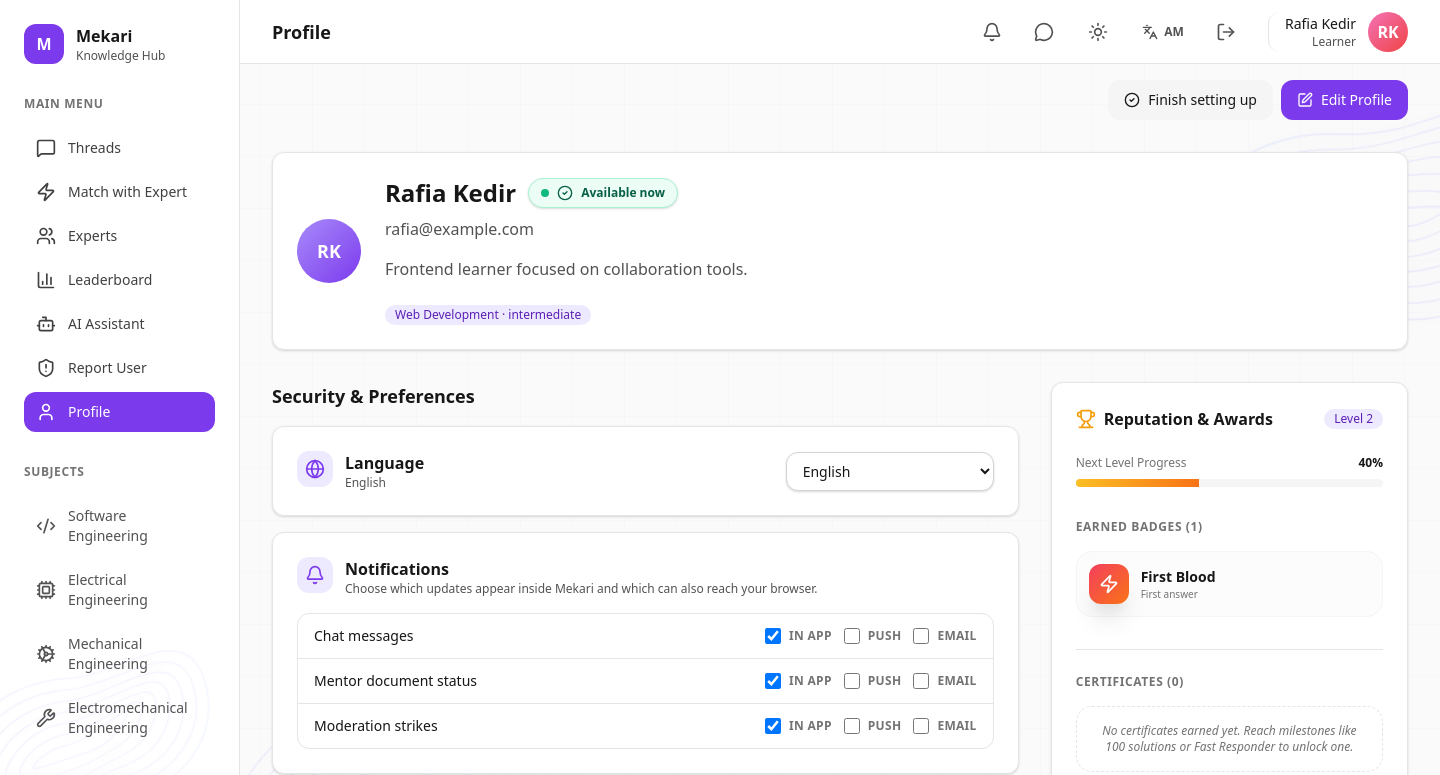
Profile management › edits basic profile details and availability
Expected: the link "Rafia Kedir Learner RK" is shown, [1268,12,1408,52]
Click the button "Edit Profile". click: point(1345, 100)
box: [1281,80,1408,120]
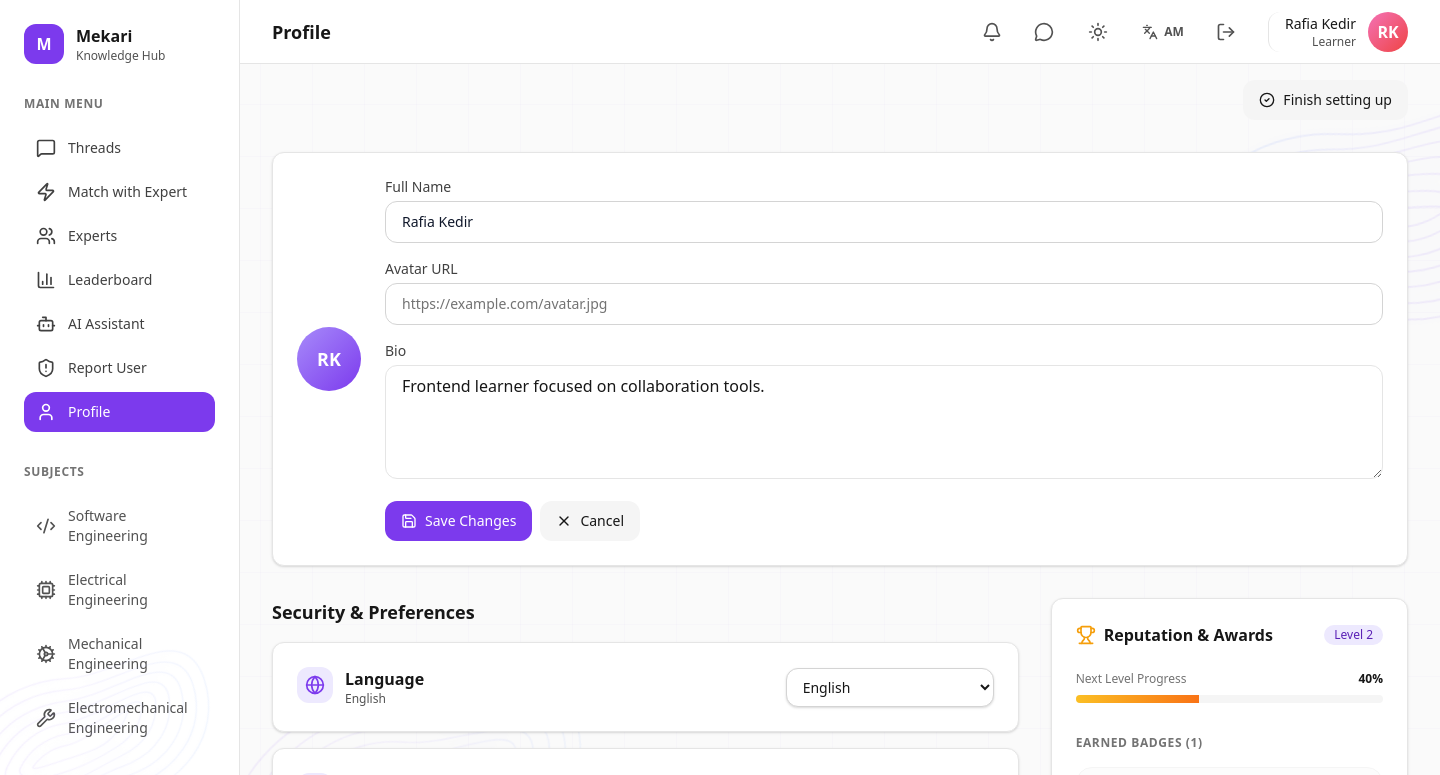
Replace the text in the 1st field with "Rafia Updated". click: point(884, 222)
box: [385,201,1383,243]
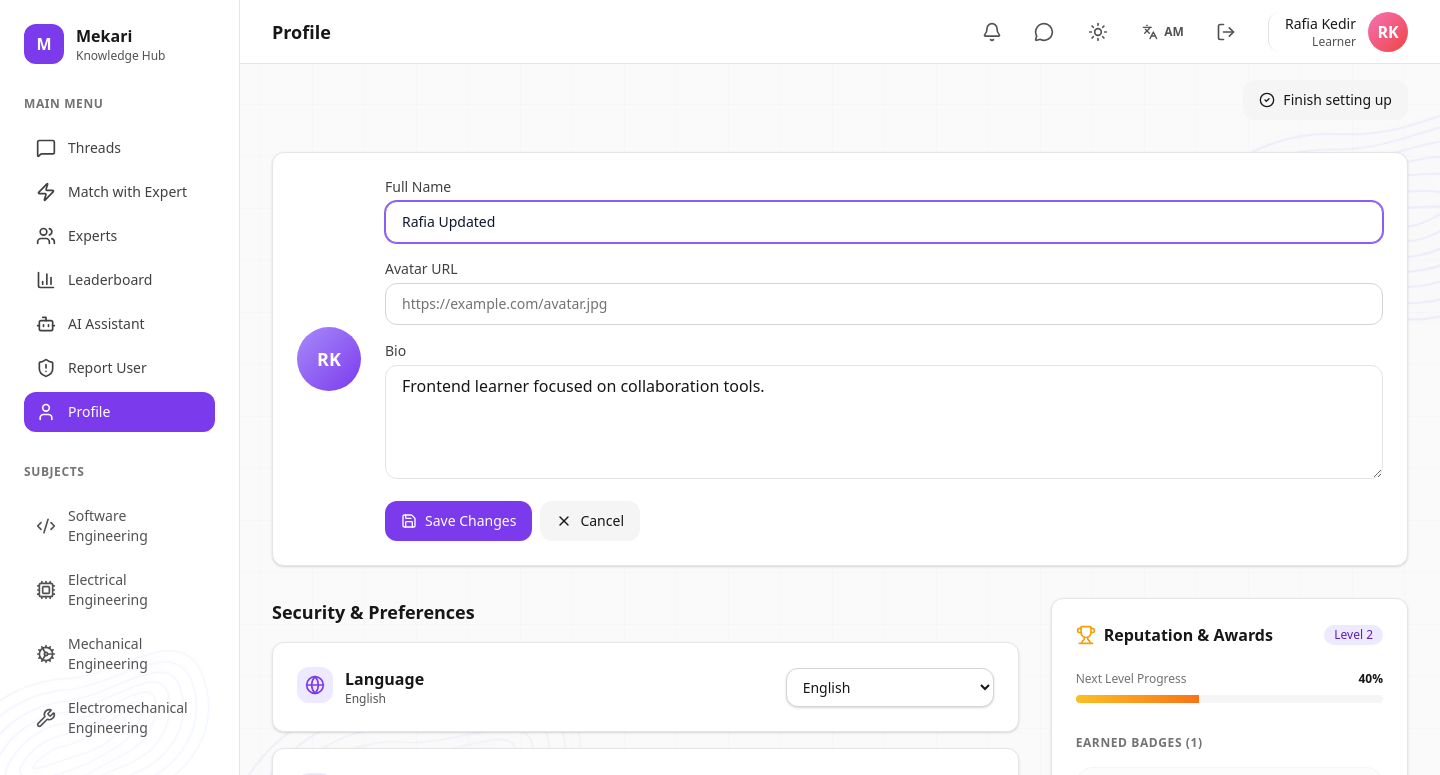
Replace the text in the text box with "I mentor peers on React and MongoDB.". click: point(884, 422)
box: [385,365,1383,479]
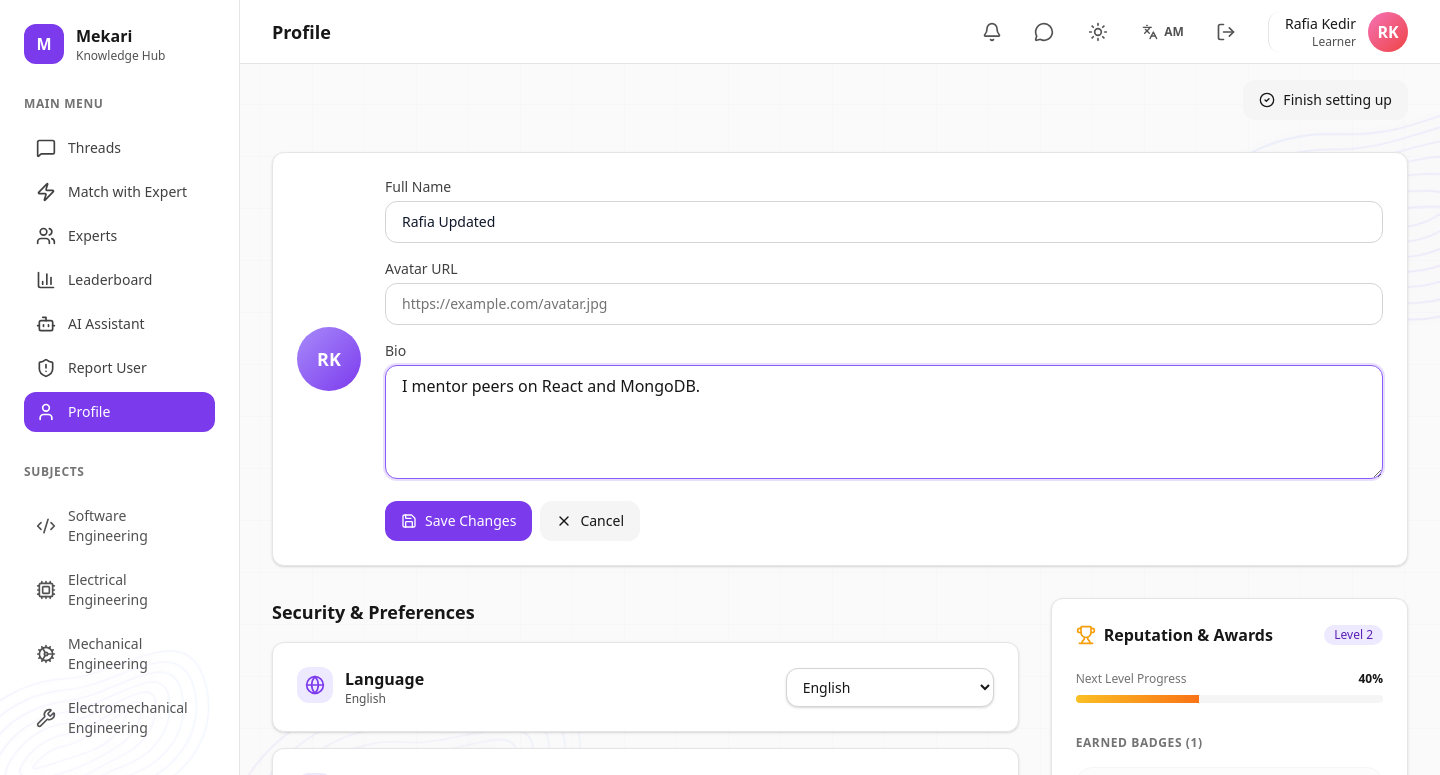
Click the button "Save Changes". click: point(459, 521)
box: [385,501,532,541]
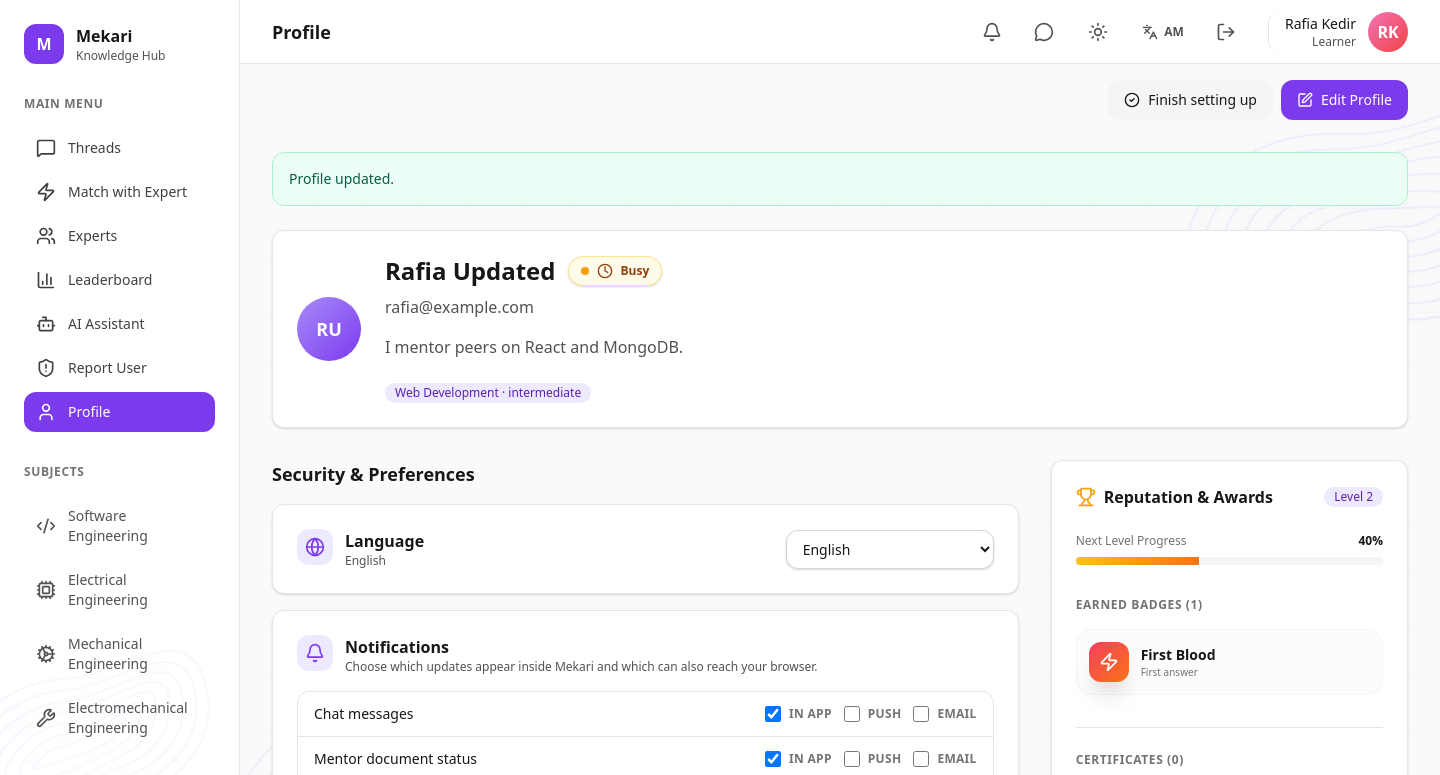
Now the text "Profile updated." is shown, box [272,152,1408,206]
Now the heading "Rafia Updated" is shown, box [385,255,556,287]
